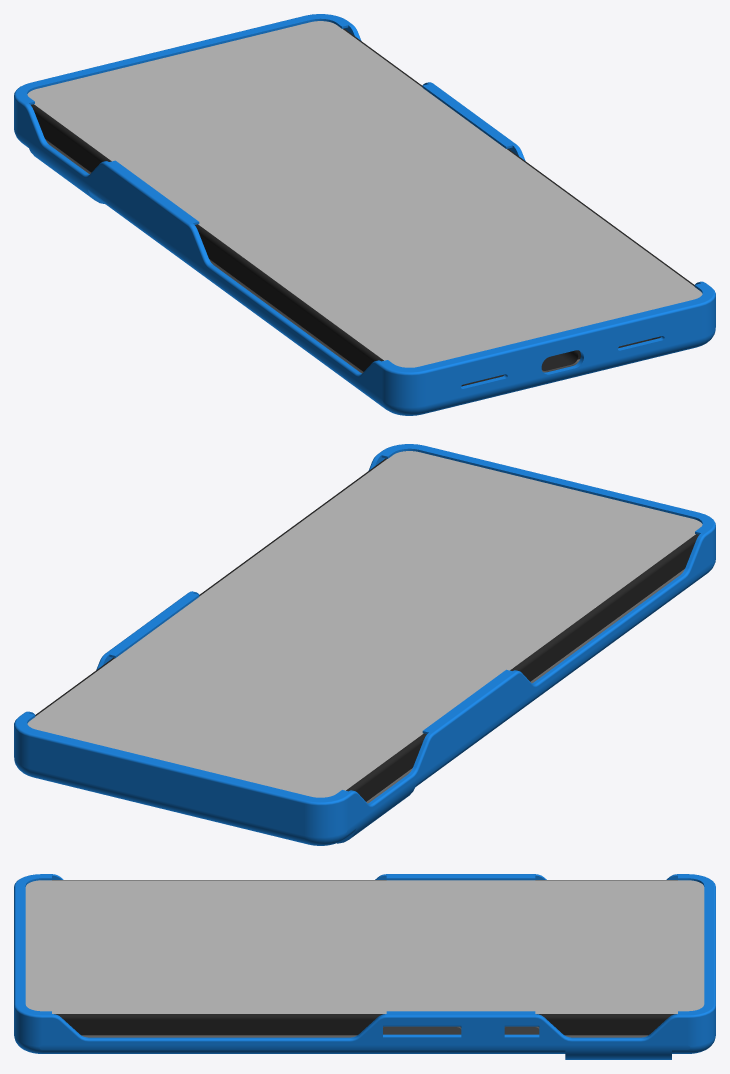
The model's file is pixel_6.1.glb.
3 renders of one model, top to bottom at view 1: azimuth 30°, elevation 25°; view 2: azimuth 150°, elevation 25°; view 3: azimuth 270°, elevation 25°, orthographic. The views are drawn at different scales.
Parts seen in each view (by area): view 1: pixel 6-1, case1-1; view 2: pixel 6-1, case1-1; view 3: pixel 6-1, case1-1.
Boxes of the visible parts, <box> form: pixel 6-1: <box>27,21,702,386</box>; case1-1: <box>14,14,715,415</box>; pixel 6-1: <box>27,451,702,803</box>; case1-1: <box>14,444,715,845</box>; pixel 6-1: <box>25,880,704,1037</box>; case1-1: <box>14,874,715,1059</box>.
Bounding box in the file's own units: 0.0778 × 0.0133 × 0.1616.
